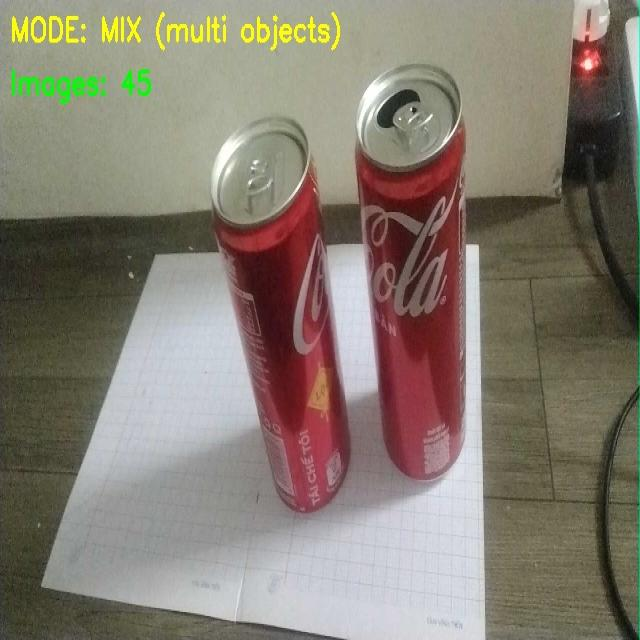Coca: (204, 118, 362, 553)
Coca_open: (362, 51, 499, 493)
